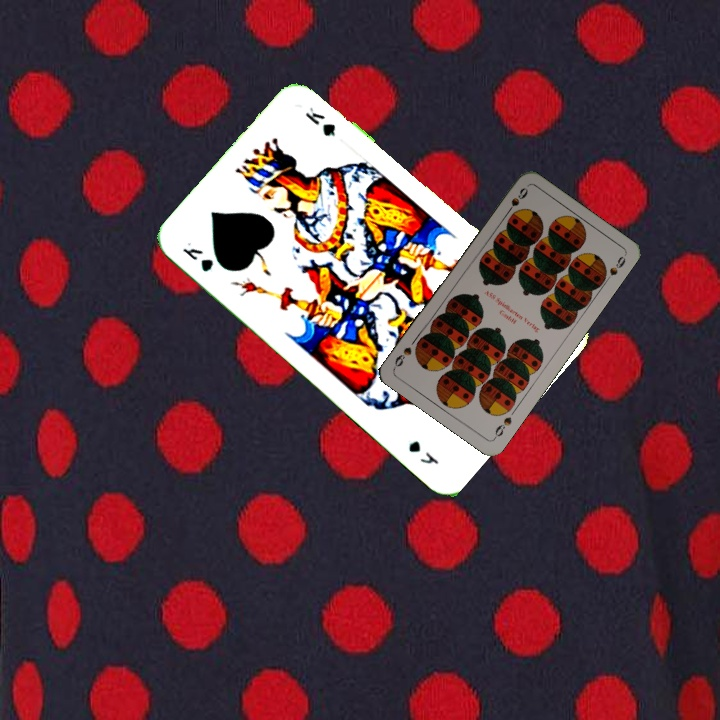GK: (179, 243, 216, 275)
S9: (501, 183, 531, 219), (490, 413, 514, 442)
